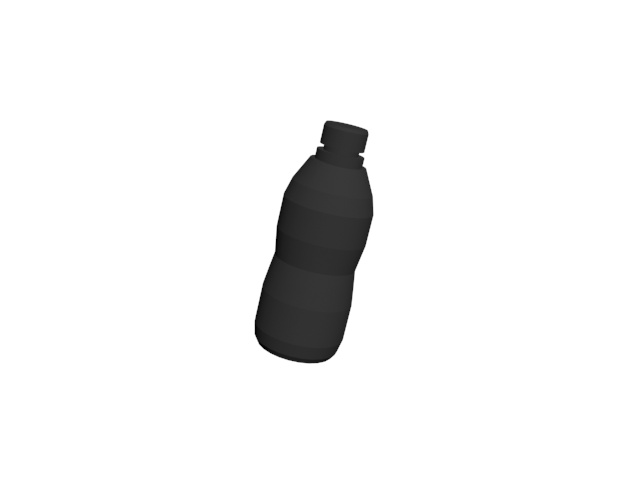bottle: (249, 121, 376, 368)
